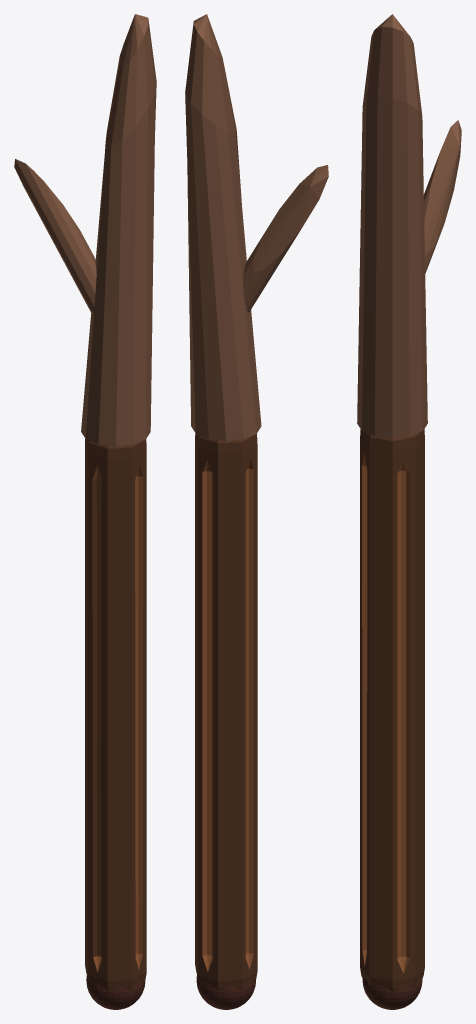
Rendered from Wand 563.glb.
3 views of the same model, side by side, from view 1: azimuth 30°, elevation 25°; view 2: azimuth 210°, elevation 25°; view 3: azimuth 270°, elevation 25° (orthographic).
Visible parts, largest first — view 1: GeneratedWand; view 2: GeneratedWand; view 3: GeneratedWand.
Boxes of the visible parts, x1,y1,x2,y2 form: GeneratedWand: [14, 14, 156, 1009]; GeneratedWand: [185, 14, 328, 1009]; GeneratedWand: [357, 14, 461, 1009].
Bounding box in the file's own units: 0.0578 × 0.4927 × 0.0466.
